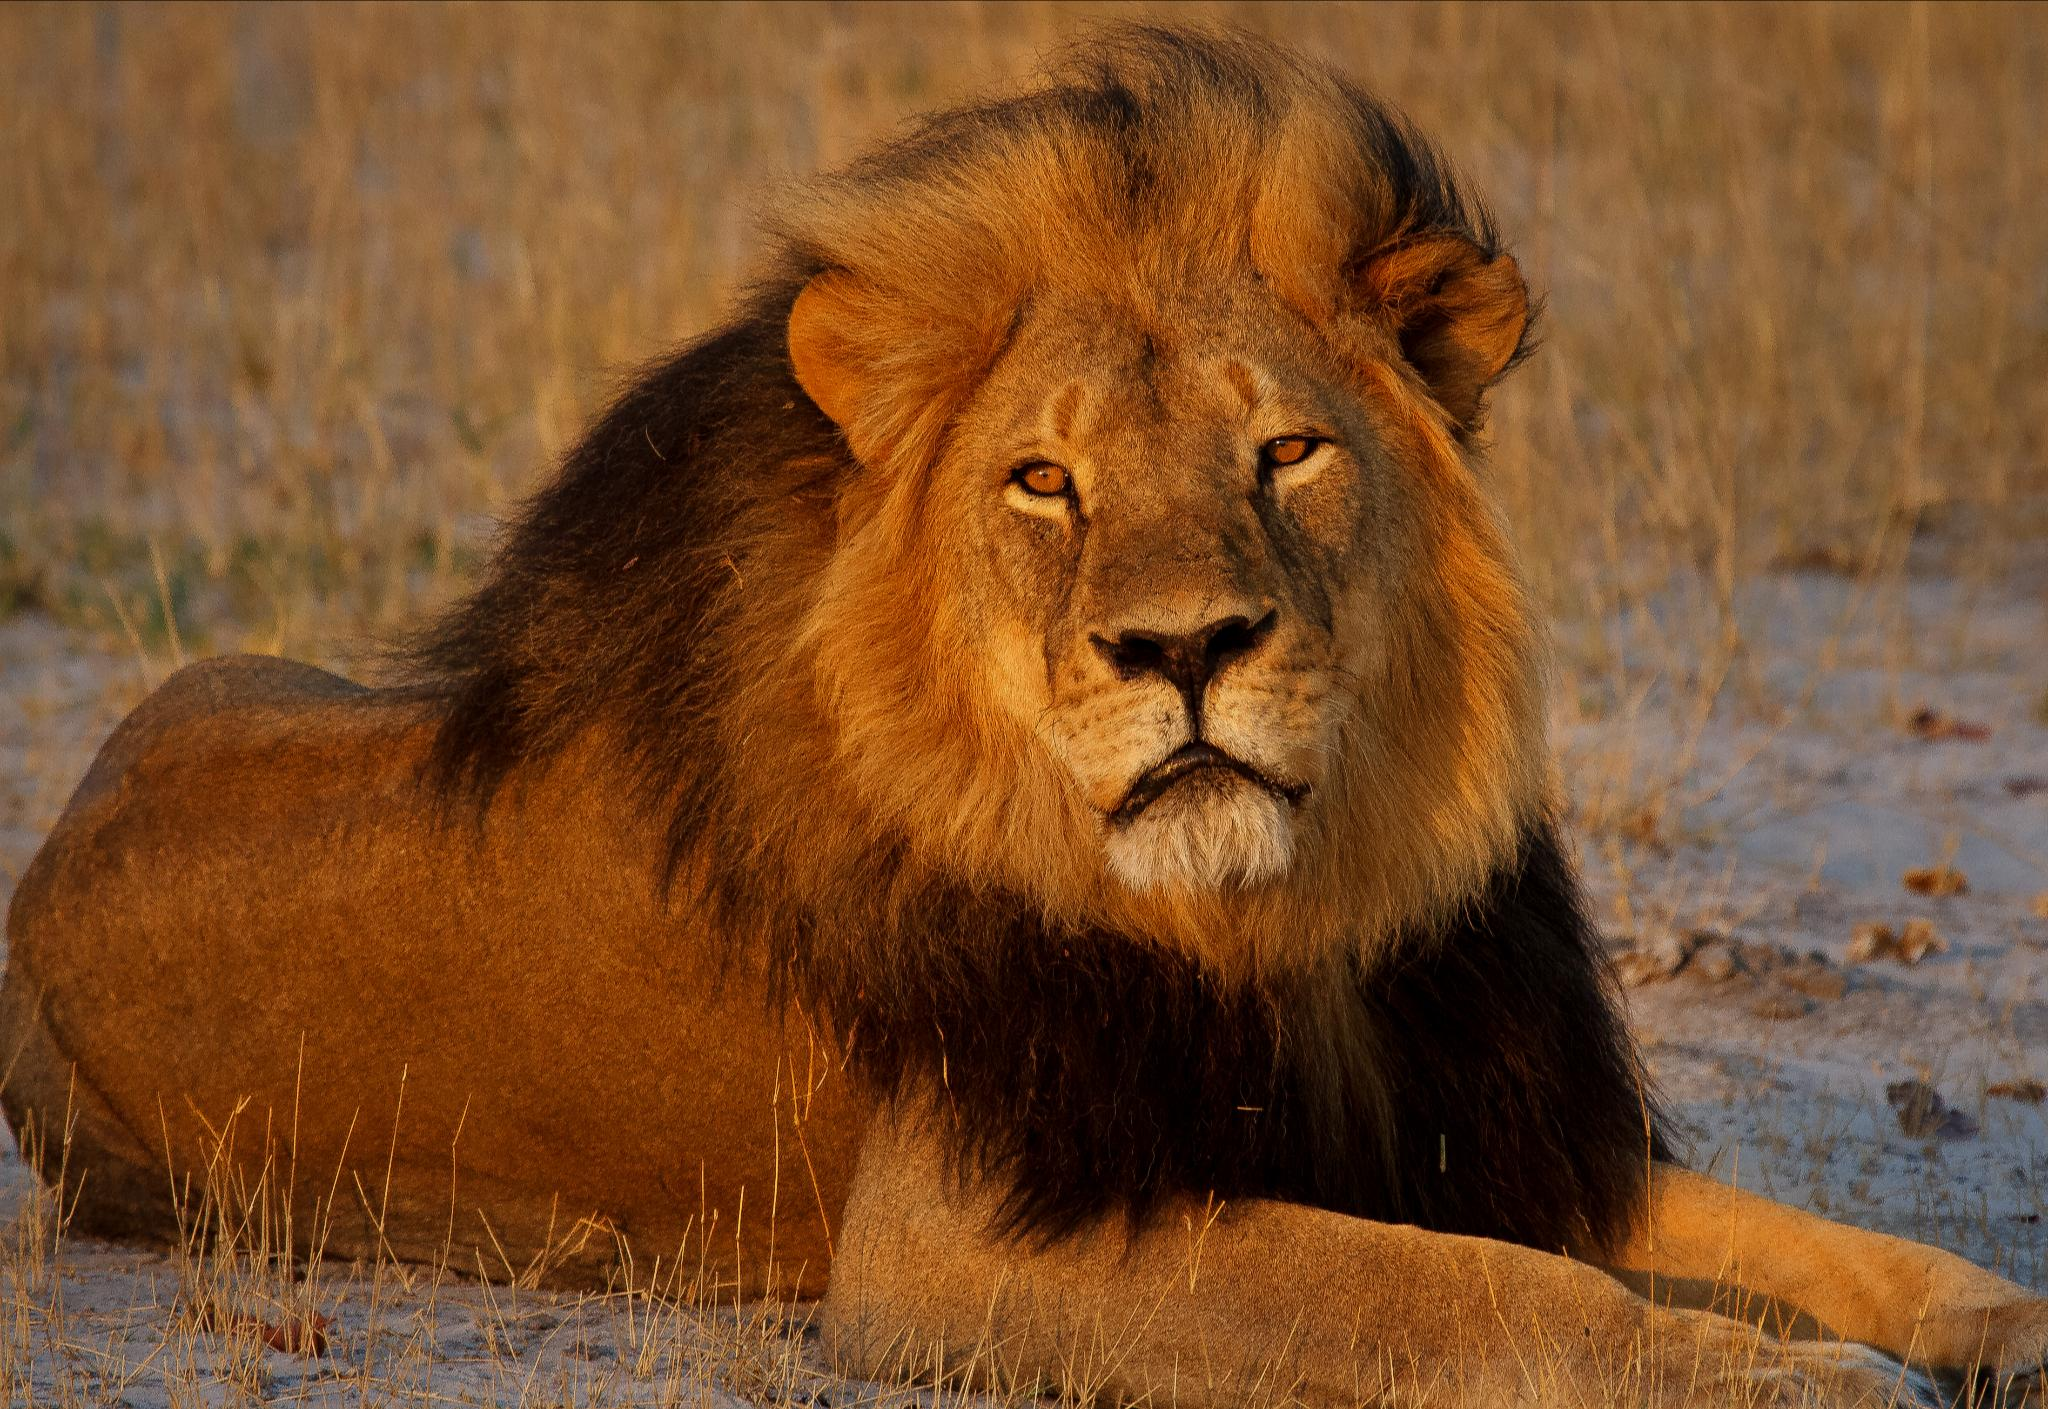lions: (0, 20, 2048, 1409)
